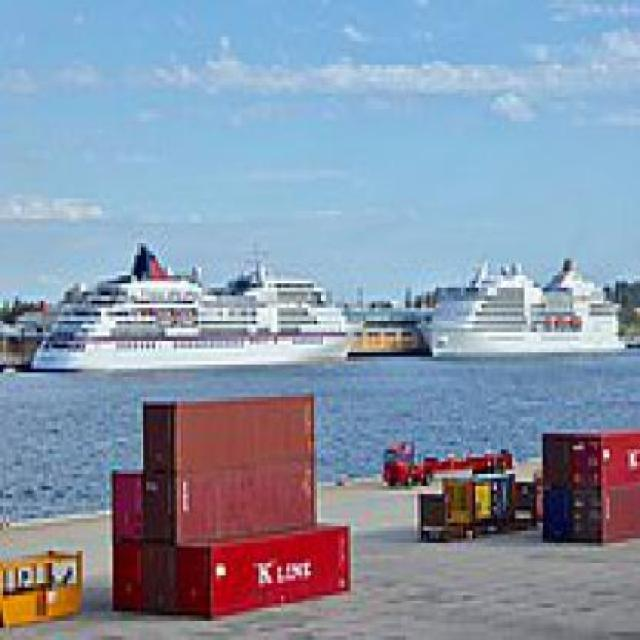cruise: (20, 232, 377, 383), (409, 244, 635, 370)
